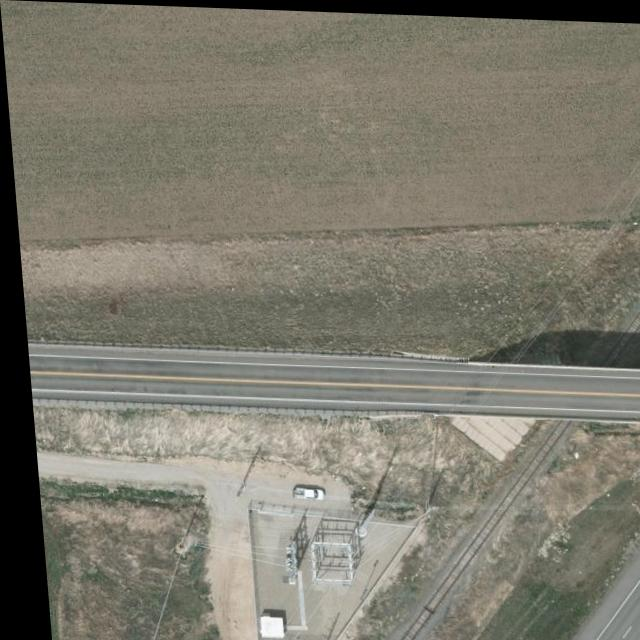vehicle: (284, 485, 317, 500)
